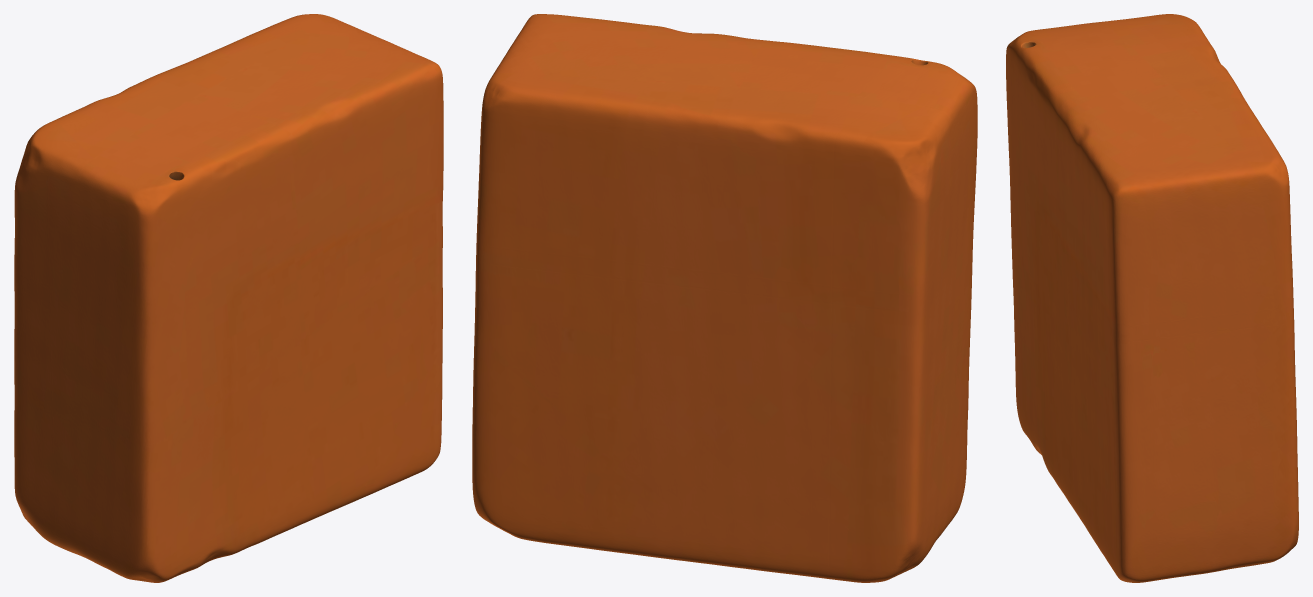
File: block_02.glb
3 views of the same model, side by side, from view 1: azimuth 30°, elevation 25°; view 2: azimuth 150°, elevation 25°; view 3: azimuth 270°, elevation 25° (orthographic). The views are drawn at different scales.
Visible parts, largest first — view 1: block_02; view 2: block_02; view 3: block_02.
Boxes of the visible parts, x1=… form: block_02: x1=14, y1=14, x2=443, y2=582; block_02: x1=472, y1=14, x2=977, y2=582; block_02: x1=1006, y1=14, x2=1298, y2=582.
Size of the model in its own units: 0.3651 by 0.3628 by 0.2367.
1 material, 1 textured.
